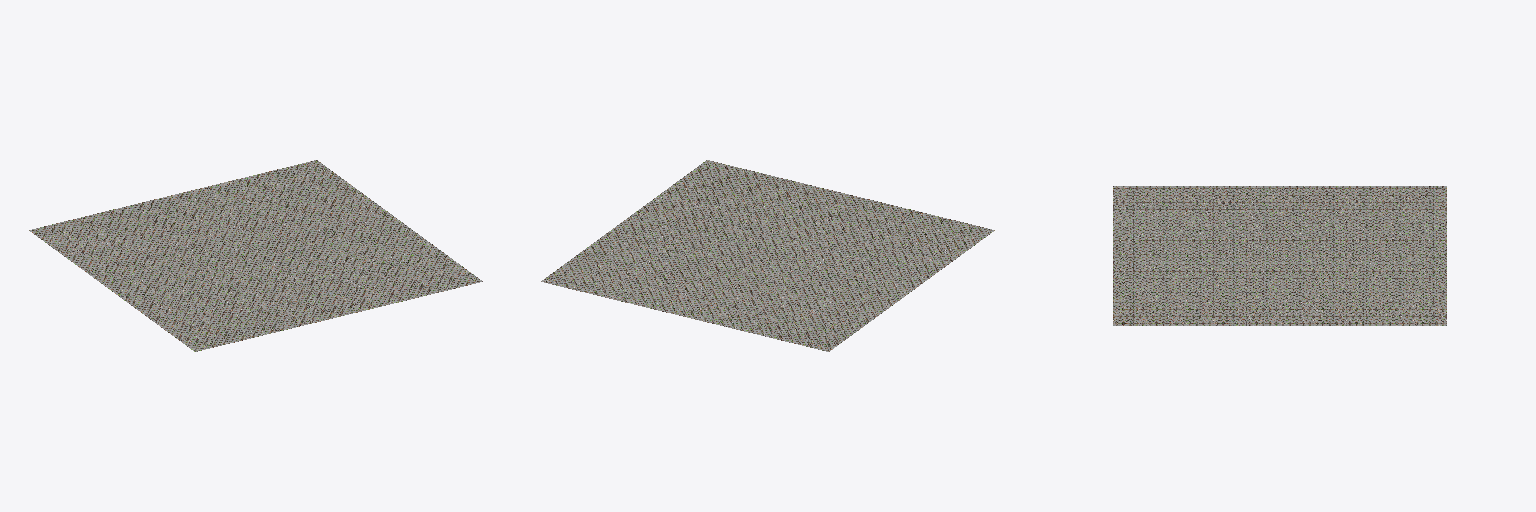
The picture shows the model from 3 angles: view 1: azimuth 30°, elevation 25°; view 2: azimuth 150°, elevation 25°; view 3: azimuth 270°, elevation 25°; orthographic projection.
Parts seen in each view (by area): view 1: Plane001; view 2: Plane001; view 3: Plane001.
Boxes of the visible parts, box(x1,y1,x2,y2) form: Plane001: box(29, 160, 482, 351); Plane001: box(541, 160, 994, 351); Plane001: box(1113, 186, 1446, 325).
Bounding box in the file's own units: 100 × 0 × 100.
1 materials, 1 textured.